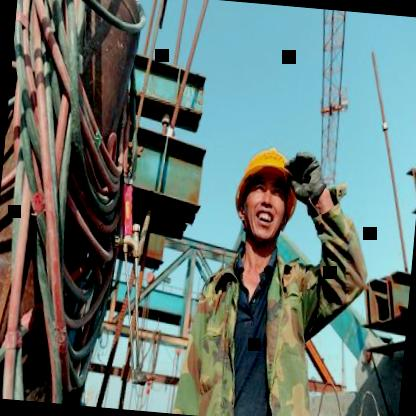helmet: (224, 134, 300, 260)
